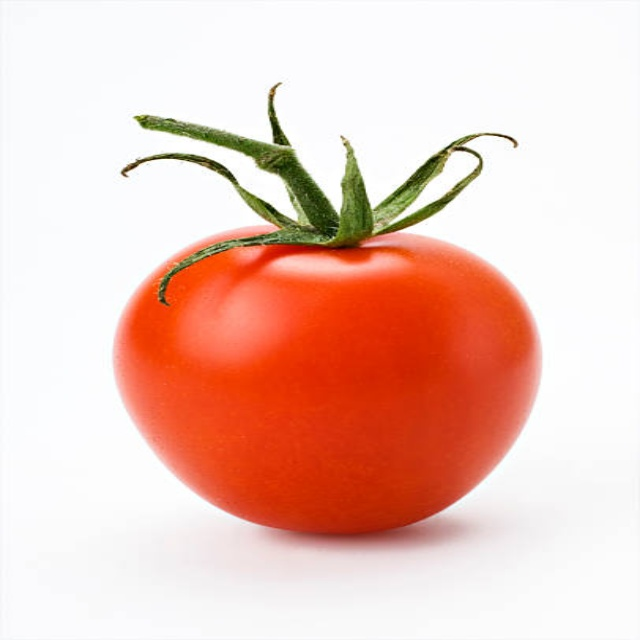tomato: (116, 205, 546, 540)
